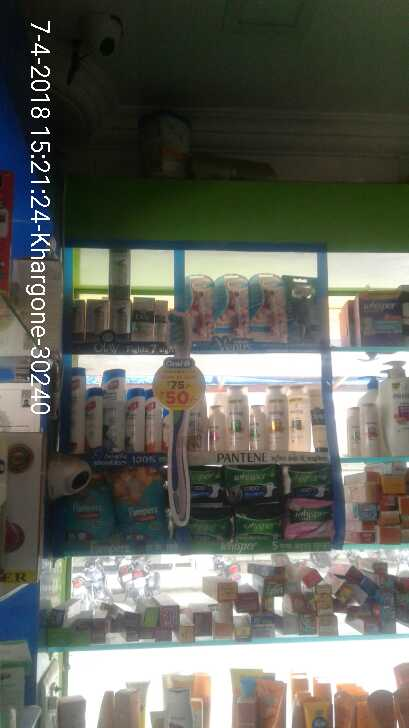venus: (248, 274, 287, 343), (181, 273, 215, 343), (215, 274, 248, 343), (288, 276, 320, 345)
